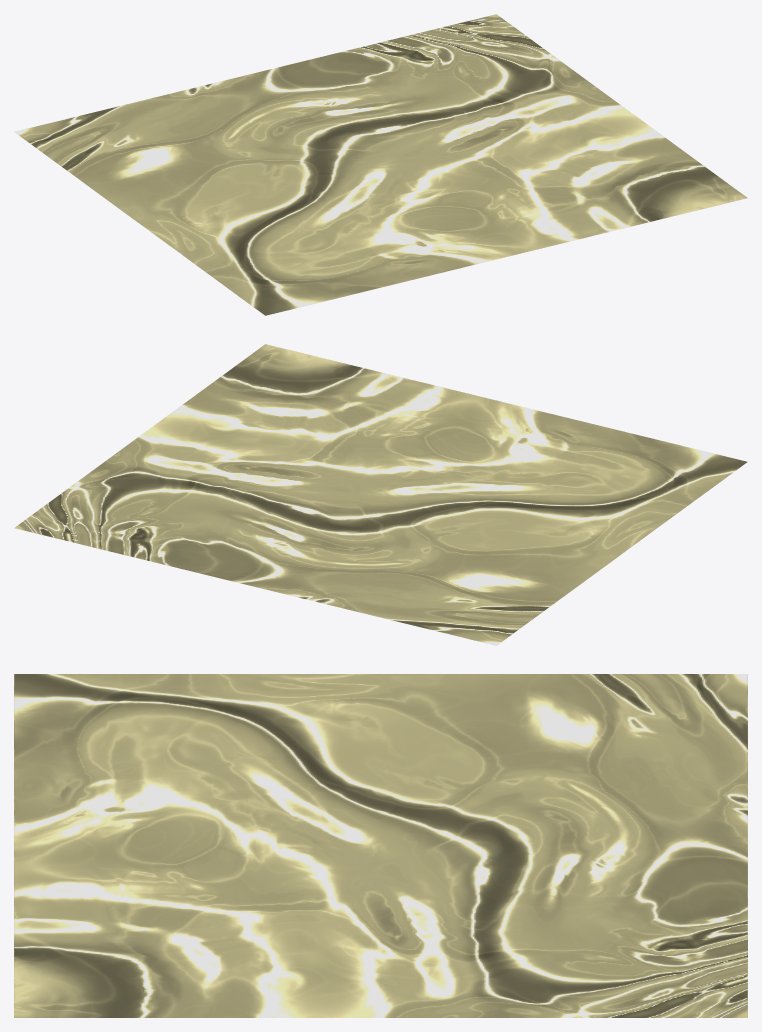
Rendered from terrain_vc_blending.dae.
The picture shows the model from 3 angles, top to bottom: view 1: azimuth 30°, elevation 25°; view 2: azimuth 150°, elevation 25°; view 3: azimuth 270°, elevation 25°; orthographic projection. The views are drawn at different scales.
Visible parts, largest first — view 1: Plane02; view 2: Plane02; view 3: Plane02.
Part boxes in pixels (x1,y1,x2,y2): Plane02: [14, 14, 747, 315]; Plane02: [14, 344, 747, 645]; Plane02: [14, 674, 747, 1017].
Size of the model in its own units: 103 by 93.16 by 0.
Materials: 1 (1 with a texture image).
